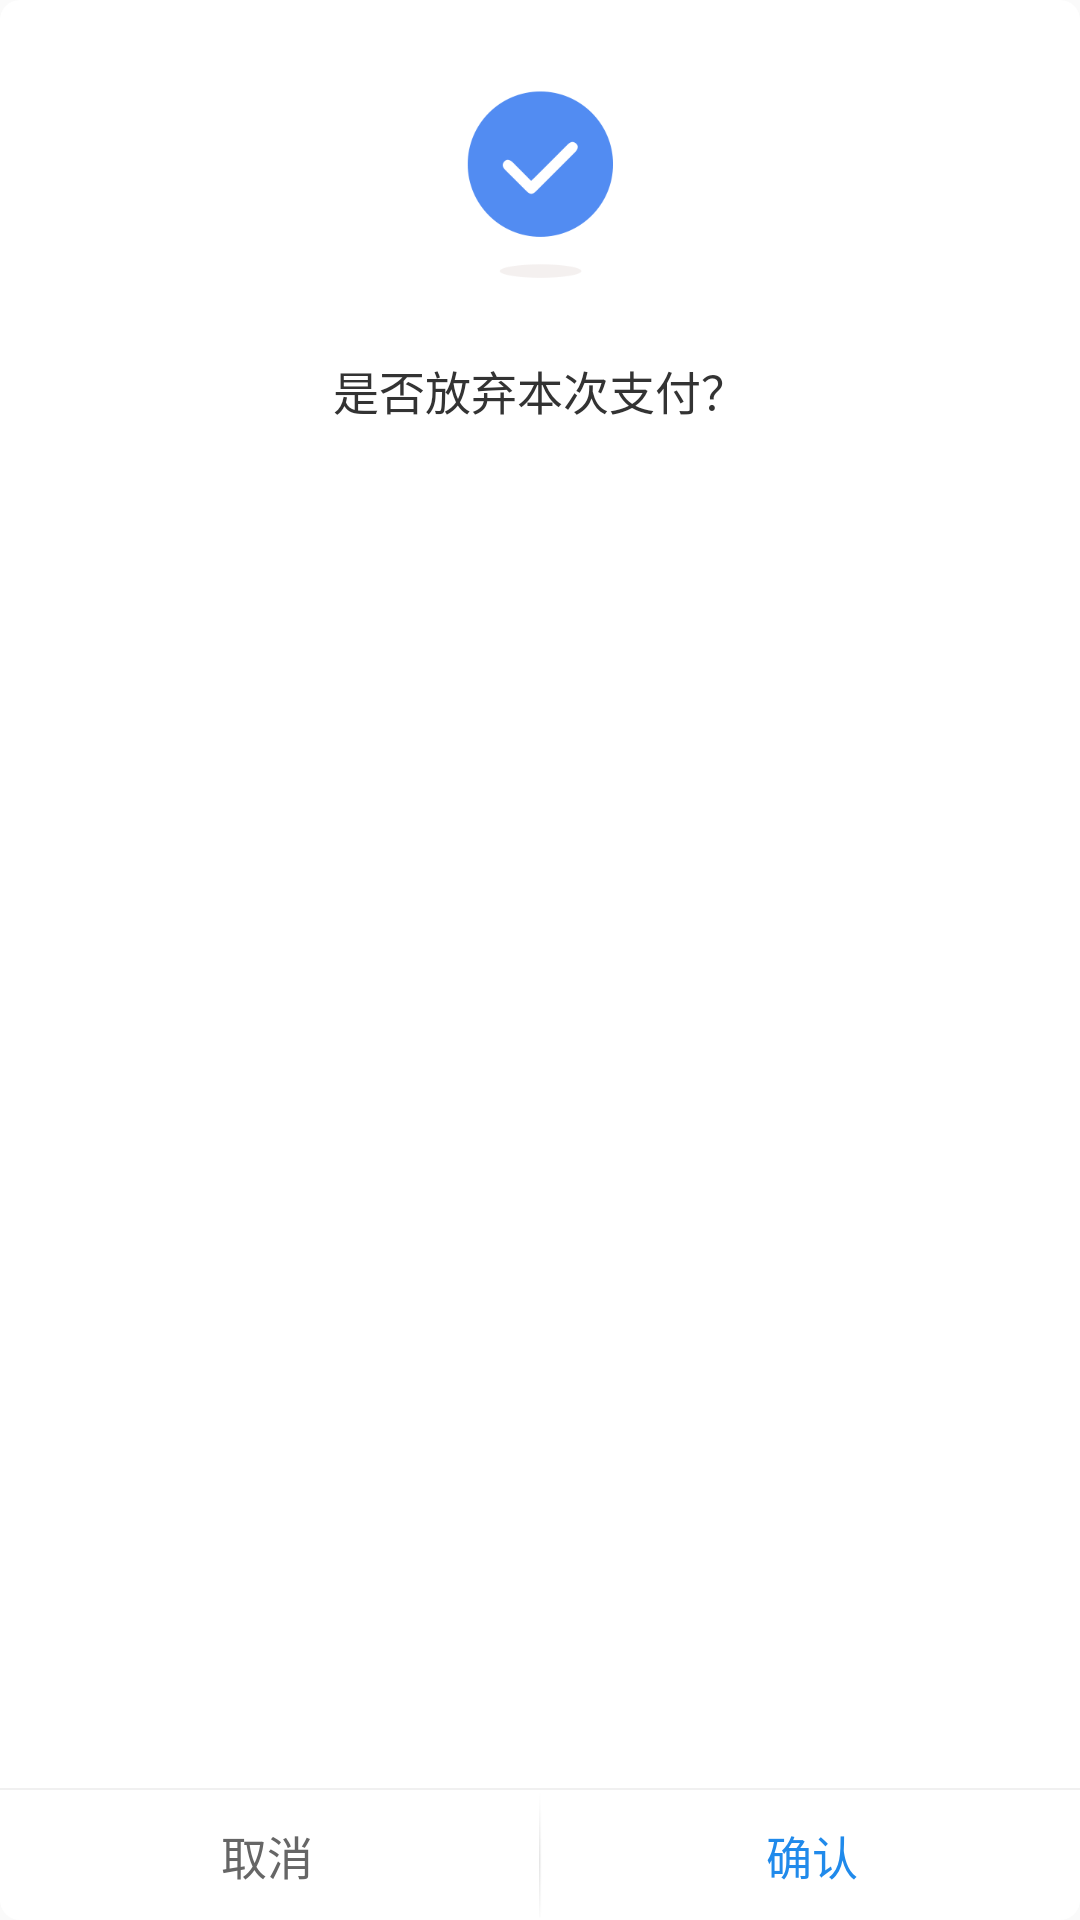

Icon click points for this 1080px x 1920px phone screenshot, format point (x, y):
success: point (540, 164)
